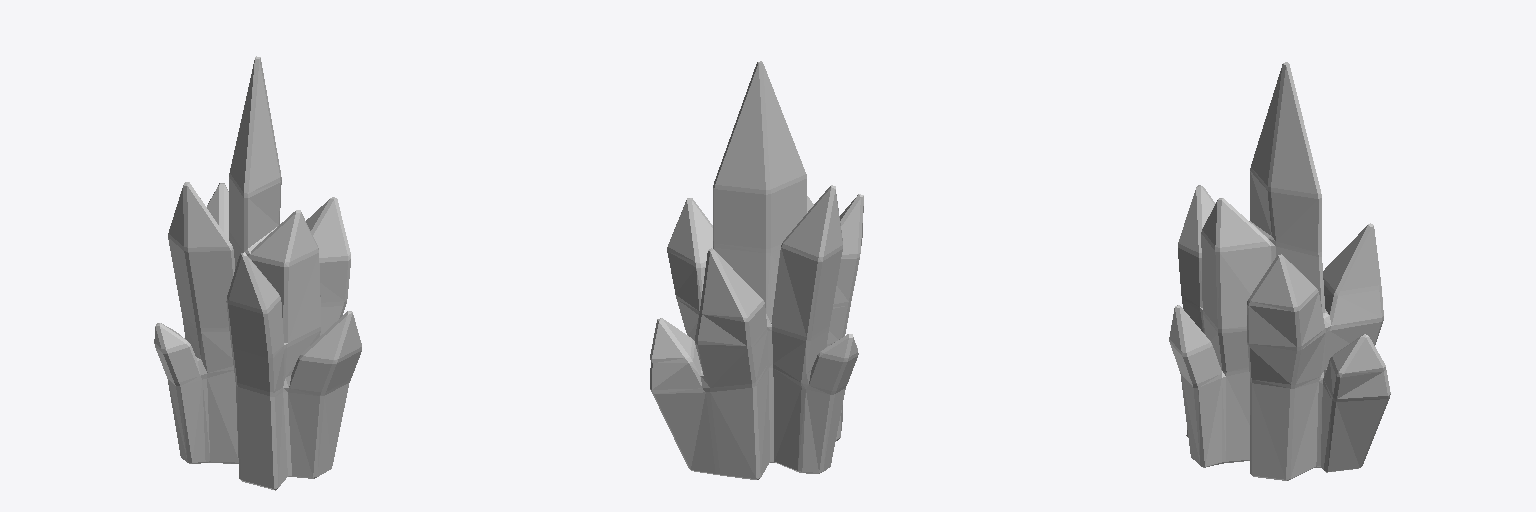
The model's file is ice.obj.
3 views of the same model, side by side, from view 1: azimuth 30°, elevation 25°; view 2: azimuth 150°, elevation 25°; view 3: azimuth 270°, elevation 25° (orthographic).
Size of the model in its own units: 2.81 by 5.64 by 2.9.